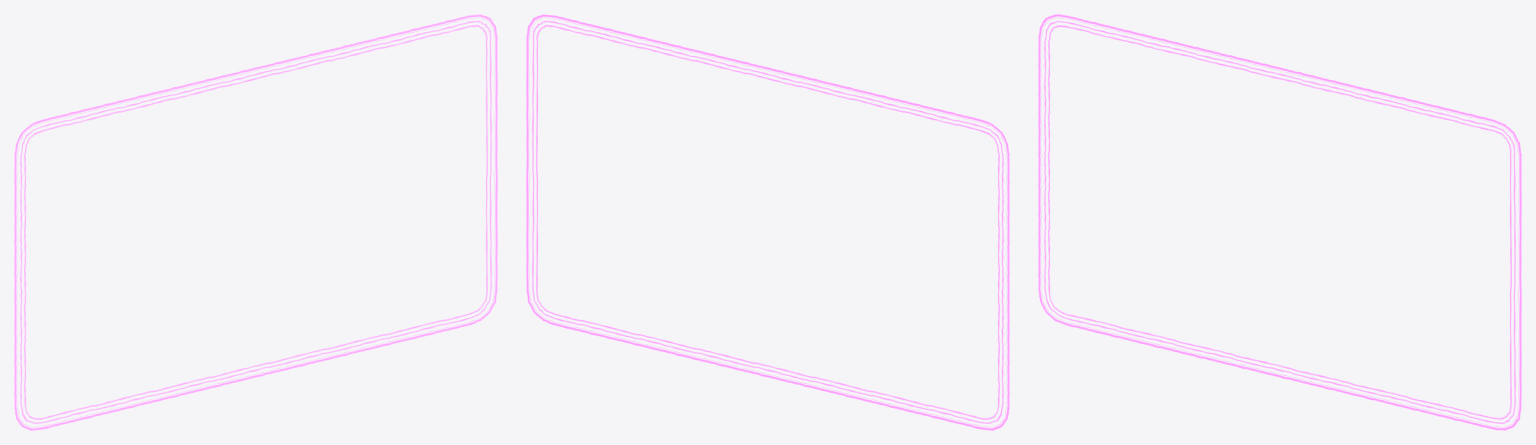
File: aerial-screen-frame.glb
3 renders of one model, left to right at view 1: azimuth 30°, elevation 25°; view 2: azimuth 150°, elevation 25°; view 3: azimuth 330°, elevation 25°, orthographic.
Visible parts, largest first — view 1: Plane1319.002; view 2: Plane1319.002; view 3: Plane1319.002.
Boxes of the visible parts, x1,y1,x2,y2 form: Plane1319.002: [14, 14, 497, 430]; Plane1319.002: [526, 14, 1009, 430]; Plane1319.002: [1038, 14, 1521, 430].
Bounding box in the file's own units: 13.33 × 8.18 × 2.03e-06.
1 material, 1 textured.
